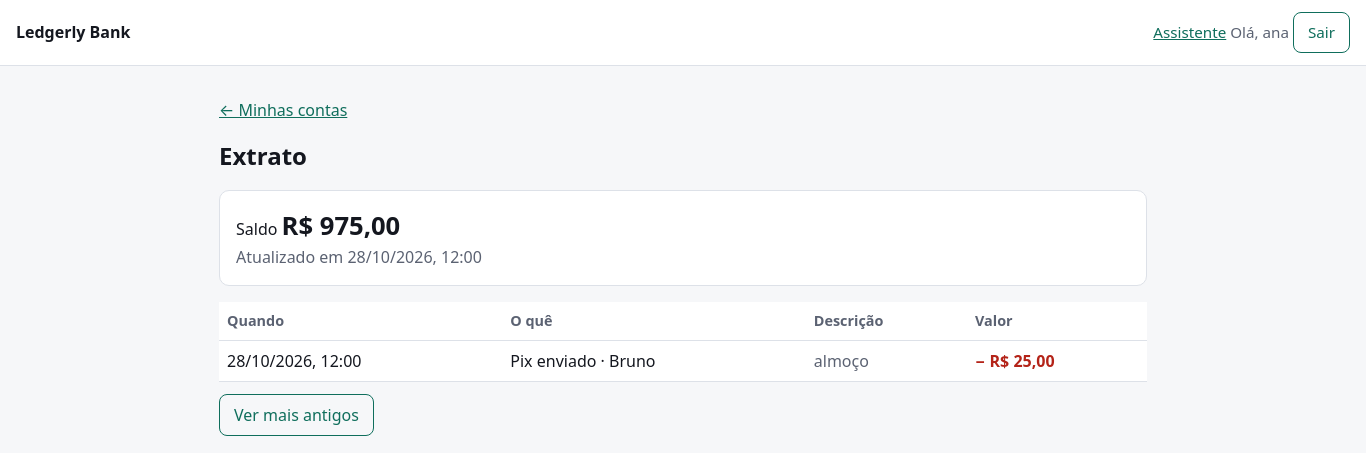
it: extrato › lista os lançamentos com sinal e carrega os mais antigos
Check: the text with test id "saldo" reads "R$ 975,00", box [282,208,400,243]
Check: the text "Pix enviado · Bruno" is shown, box [502,340,806,381]
Click the button "Ver mais antigos" at (296, 415), box [219,394,374,436]
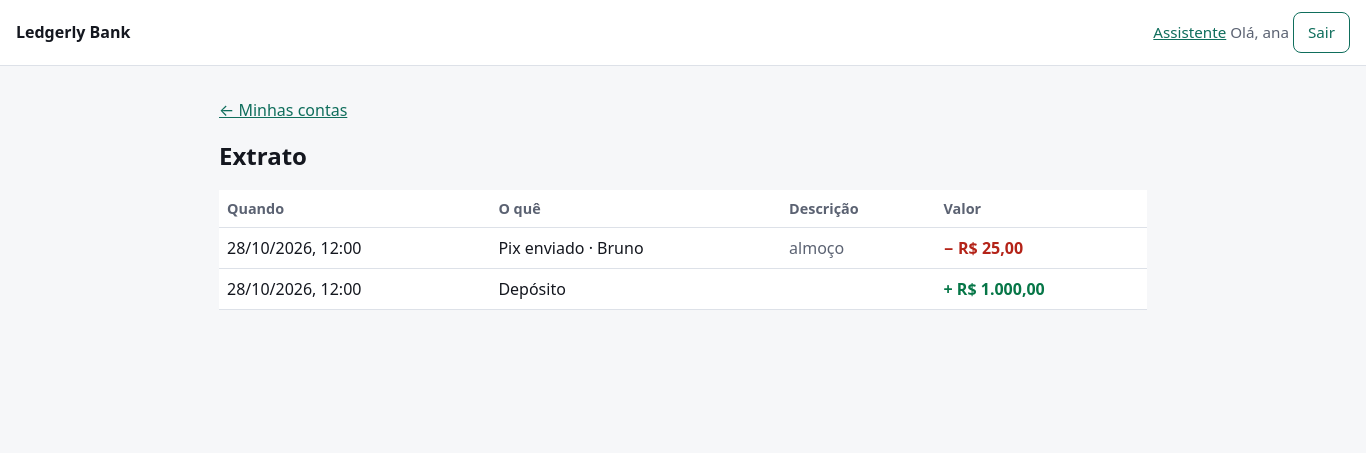
Check: the button "Ver mais antigos" is gone
